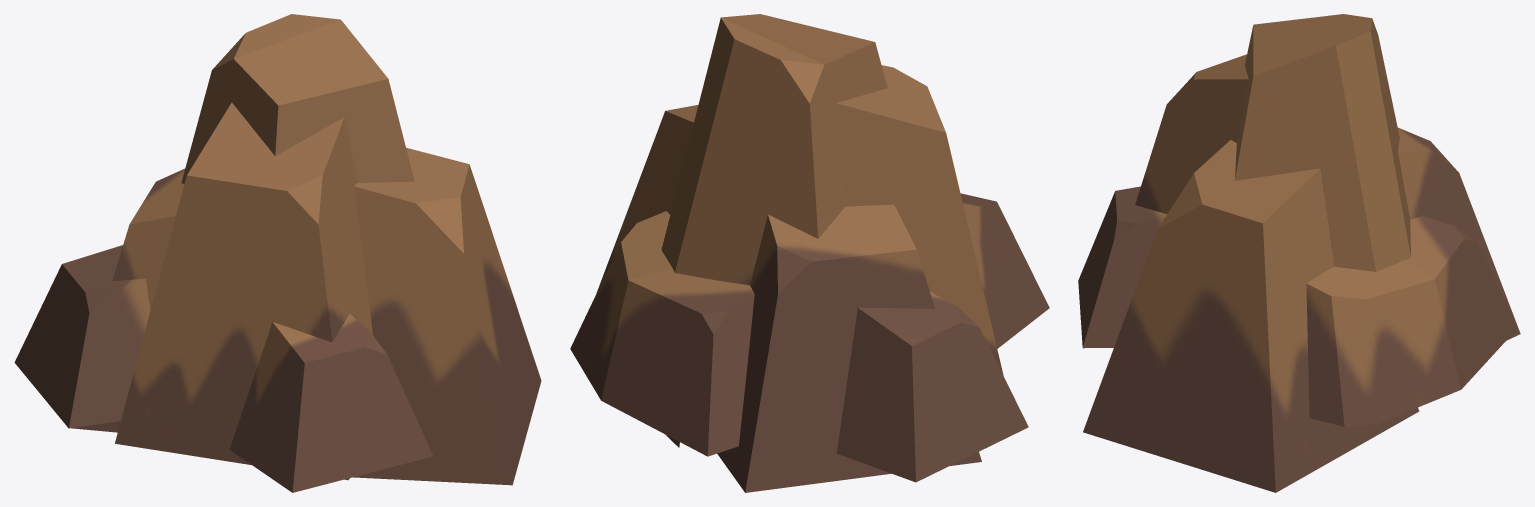
The model's file is mdl_rockA.fbx.
The picture shows the model from 3 angles, left to right: view 1: azimuth 30°, elevation 25°; view 2: azimuth 150°, elevation 25°; view 3: azimuth 270°, elevation 25°; orthographic projection. The views are drawn at different scales.
Parts seen in each view (by area): view 1: mdl_rockA; view 2: mdl_rockA; view 3: mdl_rockA.
Boxes of the visible parts, bbox=[...] form: mdl_rockA: bbox=[14, 14, 541, 492]; mdl_rockA: bbox=[570, 14, 1049, 492]; mdl_rockA: bbox=[1078, 14, 1520, 492].
Size of the model in its own units: 7.2 by 5.77 by 6.3.
